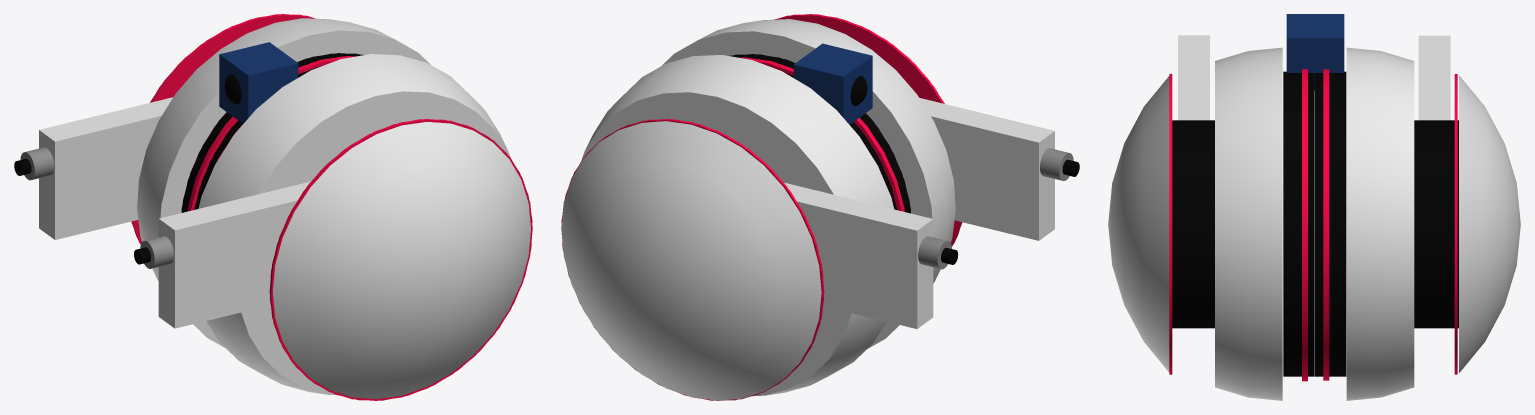
The model's file is Drone.fbx.
3 renders of one model, left to right at view 1: azimuth 30°, elevation 25°; view 2: azimuth 150°, elevation 25°; view 3: azimuth 270°, elevation 25°, orthographic.
Visible parts, largest first — view 1: Sphere.003, Sphere.001, Cube.001, Sphere, Cube, EyeBox, SideCircle2, SideCircle, Interior1, InterirorRing2, Cylinder.004, Cylinder.005; view 2: Sphere.004, Sphere, Cube, Sphere.001, Cube.001, EyeBox, SideCircle2, Interior2, SideCircle, InteriorRings, Cylinder.004, Cylinder.005; view 3: Sphere, Sphere.001, Sphere.004, Sphere.003, Interior3, Interior4, Interior1, Interior2, EyeBox, Cube, Cube.001, InterirorRing2 (+3 smaller).
Boxes of the visible parts, left/top/right/bottom form: Sphere.003: left=273, top=122, right=530, bottom=399; Sphere.001: left=198, top=54, right=510, bottom=395; Cube.001: left=158, top=181, right=310, bottom=328; Sphere: left=137, top=18, right=430, bottom=347; Cube: left=39, top=97, right=172, bottom=239; EyeBox: left=219, top=42, right=298, bottom=123; SideCircle2: left=269, top=119, right=532, bottom=400; SideCircle: left=131, top=14, right=315, bottom=244; Interior1: left=181, top=53, right=363, bottom=212; InterirorRing2: left=187, top=56, right=355, bottom=211; Cylinder.004: left=20, top=147, right=54, bottom=180; Cylinder.005: left=140, top=236, right=173, bottom=268; Sphere.004: left=561, top=121, right=821, bottom=400; Sphere: left=581, top=55, right=893, bottom=396; Cube: left=784, top=182, right=933, bottom=328; Sphere.001: left=662, top=19, right=955, bottom=348; Cube.001: left=919, top=98, right=1054, bottom=240; EyeBox: left=793, top=43, right=872, bottom=124; SideCircle2: left=774, top=14, right=962, bottom=246; Interior2: left=729, top=54, right=910, bottom=213; SideCircle: left=561, top=119, right=824, bottom=400; InteriorRings: left=740, top=57, right=904, bottom=211; Cylinder.004: left=918, top=236, right=951, bottom=269; Cylinder.005: left=1040, top=148, right=1073, bottom=180; Sphere: left=1346, top=47, right=1414, bottom=400; Sphere.001: left=1215, top=47, right=1282, bottom=400; Sphere.004: left=1459, top=75, right=1520, bottom=372; Sphere.003: left=1108, top=76, right=1169, bottom=372; Interior3: left=1172, top=120, right=1214, bottom=328; Interior4: left=1414, top=120, right=1458, bottom=328; Interior1: left=1315, top=71, right=1346, bottom=376; Interior2: left=1283, top=71, right=1314, bottom=376; EyeBox: left=1286, top=14, right=1344, bottom=90; Cube: left=1418, top=35, right=1450, bottom=120; Cube.001: left=1178, top=35, right=1209, bottom=120; InterirorRing2: left=1323, top=69, right=1329, bottom=380.
Size of the model in its own units: 264 by 203 by 234.
